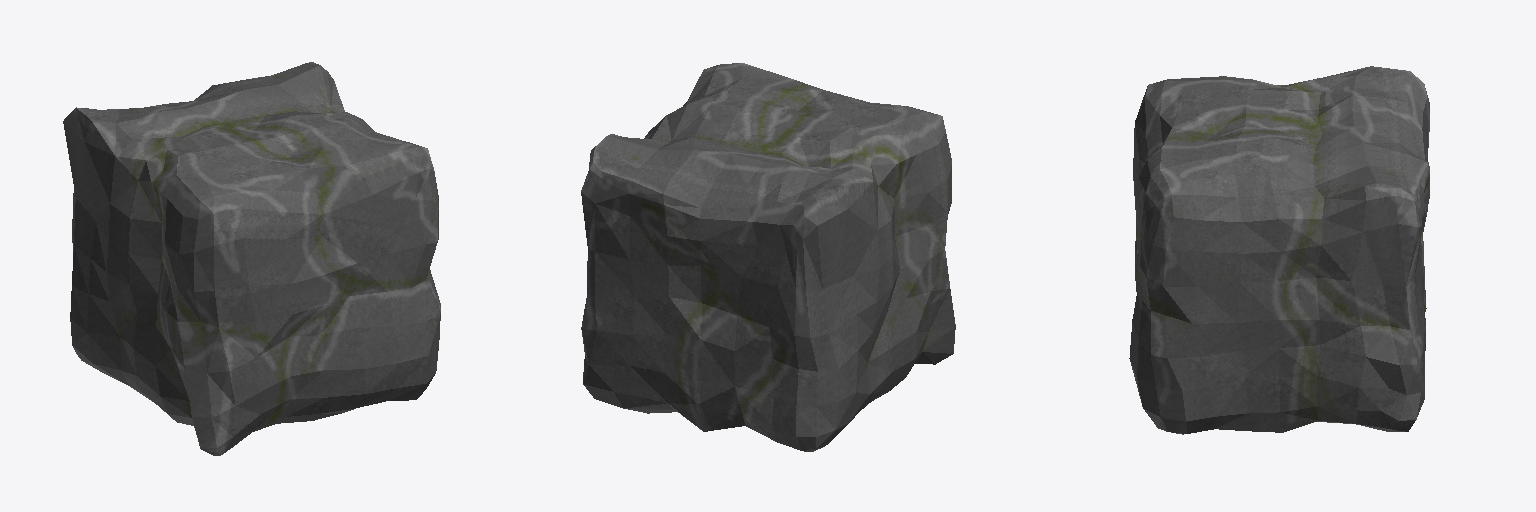
The picture shows the model from 3 angles: view 1: azimuth 30°, elevation 25°; view 2: azimuth 150°, elevation 25°; view 3: azimuth 270°, elevation 25°; orthographic projection.
Bounding box in the file's own units: 25.3 × 24.94 × 25.4.
Materials: 1 (1 with a texture image).